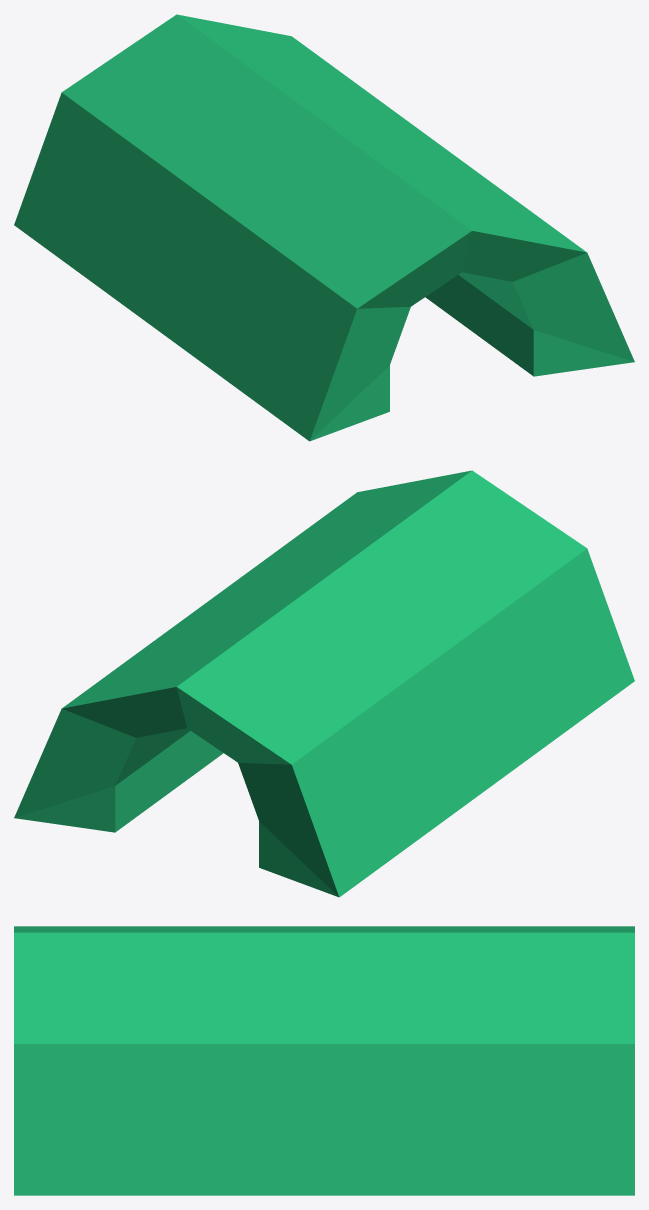
Rendered from tunnel.gltf.
The picture shows the model from 3 angles, top to bottom: view 1: azimuth 30°, elevation 25°; view 2: azimuth 150°, elevation 25°; view 3: azimuth 270°, elevation 25°; orthographic projection. The views are drawn at different scales.
Parts seen in each view (by area): view 1: Cylinder; view 2: Cylinder; view 3: Cylinder.
Part boxes in pixels (x1,y1,x2,y2): Cylinder: [14, 14, 634, 441]; Cylinder: [14, 470, 634, 897]; Cylinder: [14, 926, 634, 1195].
Bounding box in the file's own units: 4.52 × 2.27 × 7.12.
